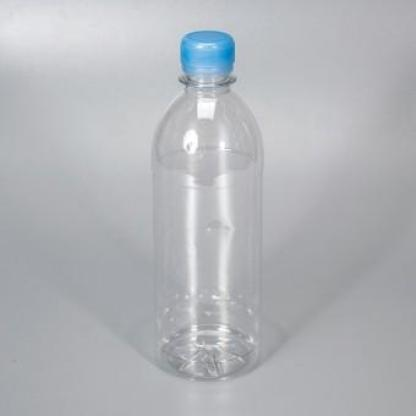Glass Bottle: (153, 31, 264, 380)
